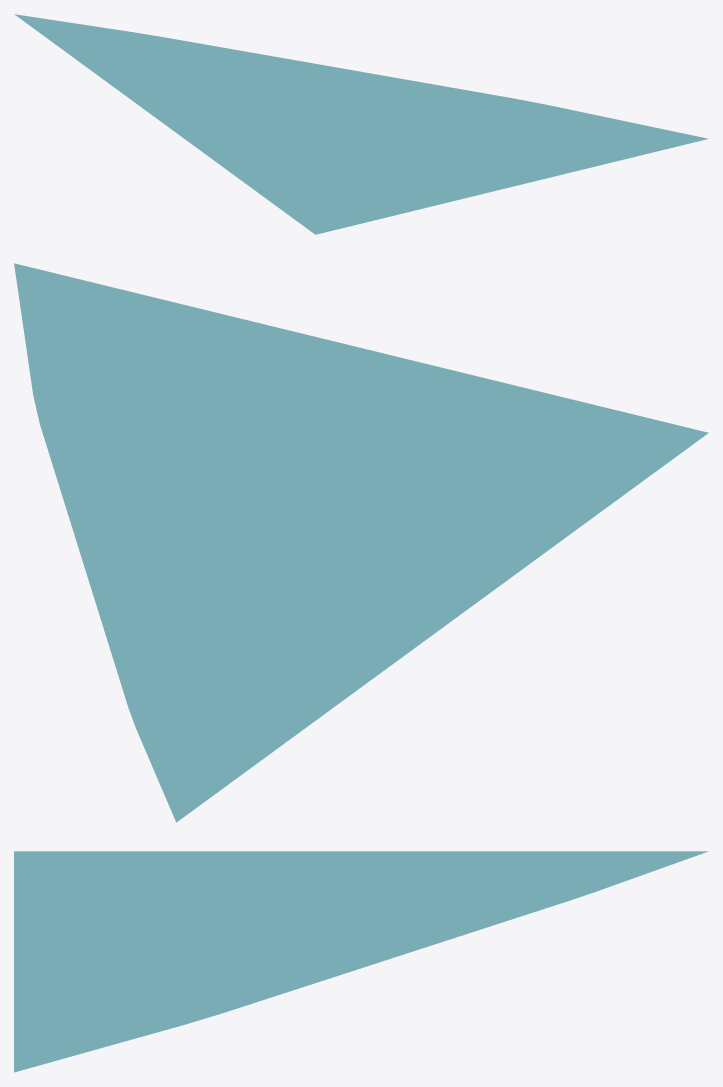
The picture shows the model from 3 angles, top to bottom: view 1: azimuth 30°, elevation 25°; view 2: azimuth 150°, elevation 25°; view 3: azimuth 270°, elevation 25°; orthographic projection. The views are drawn at different scales.
Parts seen in each view (by area): view 1: city; view 2: city; view 3: city.
Part boxes in pixels (left/top/right/bottom): city: left=14, top=14, right=708, bottom=234; city: left=14, top=263, right=708, bottom=822; city: left=14, top=851, right=708, bottom=1072.
Bounding box in the file's own units: 48.63 × 0 × 64.55.
